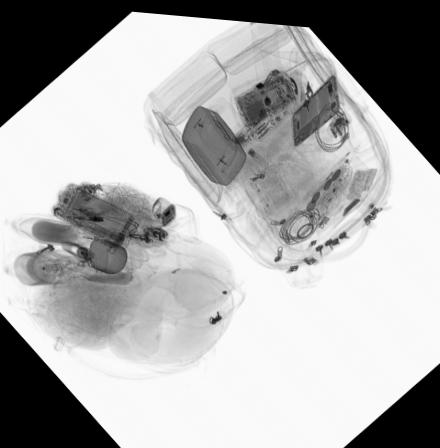Lighter: (79, 226, 124, 243)
